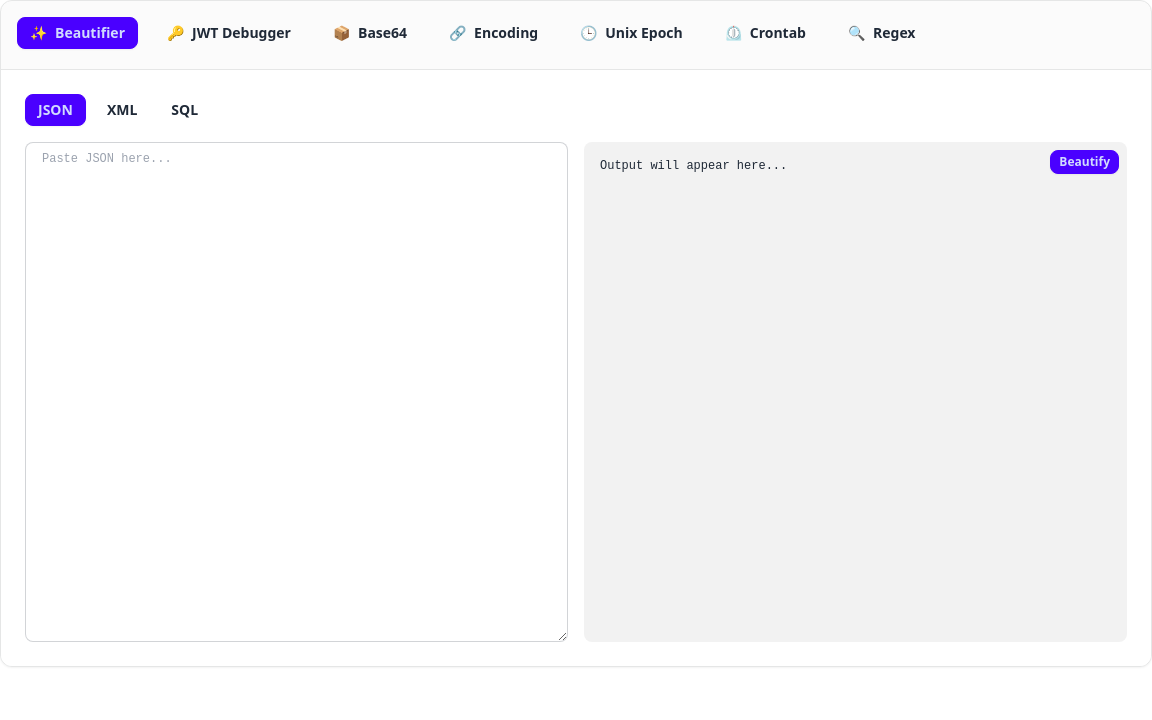
Test: Tools Component › switches to Base64 tab
Click the button "📦 Base64" at (370, 33), box [320,17,420,49]
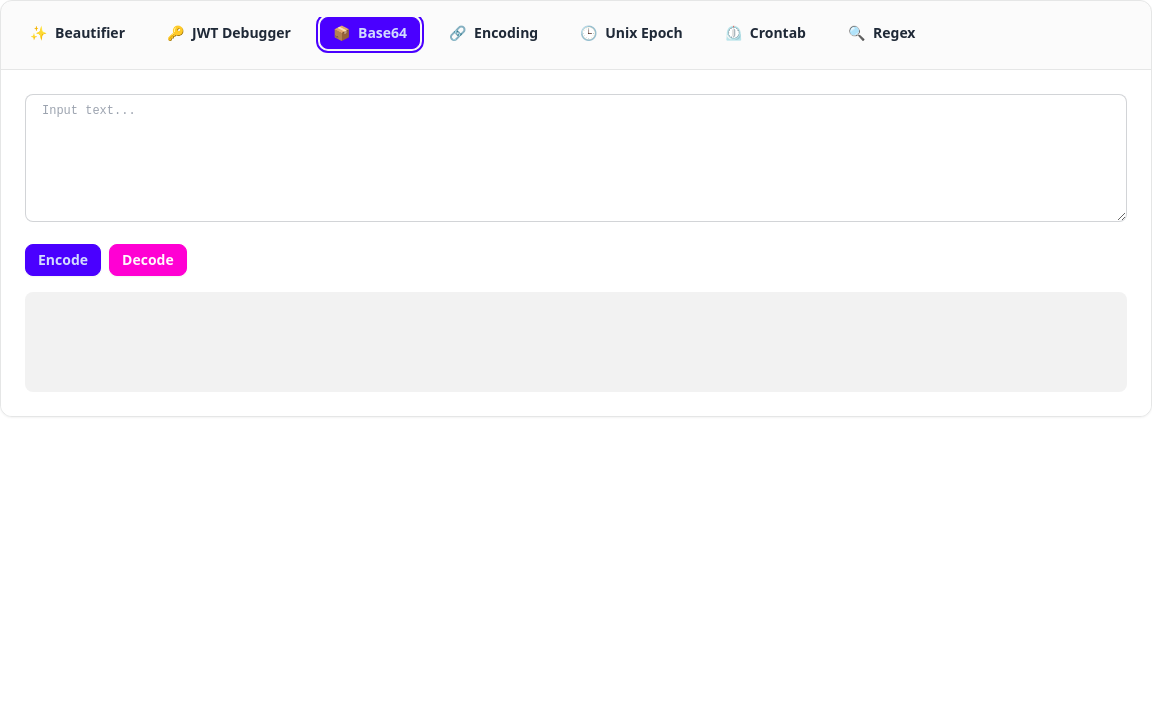
Expected: the button "Encode" is shown, [25,244,101,276]
Expected: the button "Decode" is shown, [109,244,187,276]
